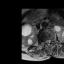CCS_normal: (47, 38, 49, 48)
LFS_stenosis: (51, 37, 53, 42)
LLS_normal: (49, 38, 51, 43)
RFS_stenosis: (43, 39, 45, 44)
RLS_normal: (45, 38, 47, 44)
